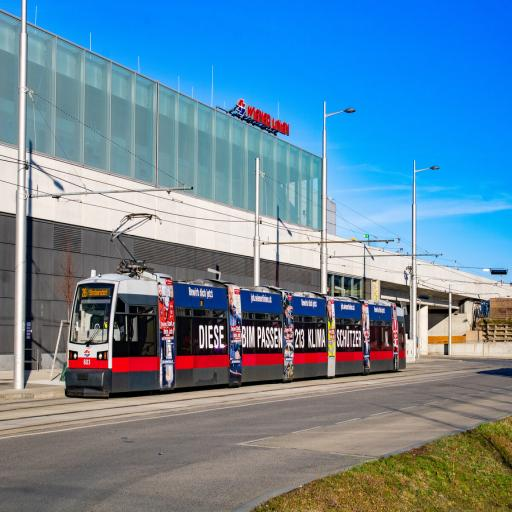ULF: (64, 272, 406, 396)
